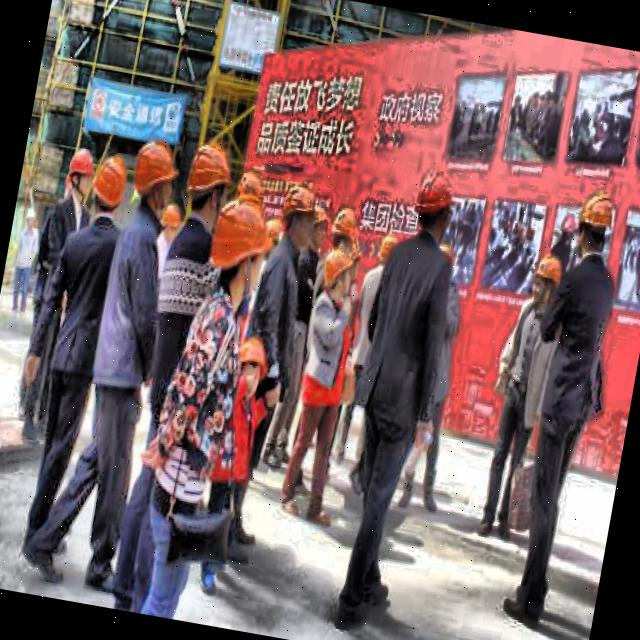helmet: (206, 192, 278, 312), (403, 162, 462, 252), (124, 140, 180, 217), (181, 144, 234, 224), (225, 326, 271, 416), (270, 180, 326, 253), (570, 187, 619, 266), (88, 151, 134, 222), (528, 245, 572, 312), (318, 245, 359, 307), (59, 144, 98, 205), (326, 201, 361, 258)
